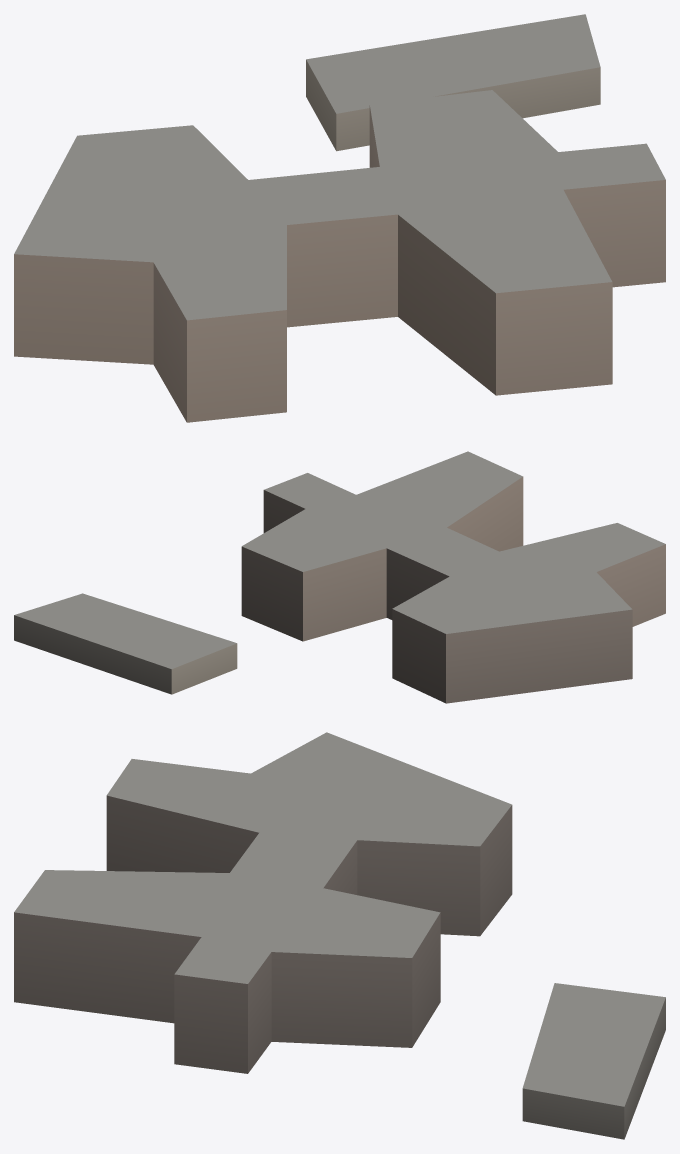
Rendered from bld_4_3.fbx.
3 renders of one model, top to bottom at view 1: azimuth 30°, elevation 25°; view 2: azimuth 150°, elevation 25°; view 3: azimuth 270°, elevation 25°, orthographic. The views are drawn at different scales.
Visible parts, largest first — view 1: bld_4_3_LOD0; view 2: bld_4_3_LOD0; view 3: bld_4_3_LOD0.
Boxes of the visible parts, x1,y1,x2,y2 form: bld_4_3_LOD0: [14, 14, 665, 422]; bld_4_3_LOD0: [14, 451, 665, 703]; bld_4_3_LOD0: [14, 732, 665, 1139].
Size of what is drawn, in the model's own units: 186 by 24.48 by 161.
